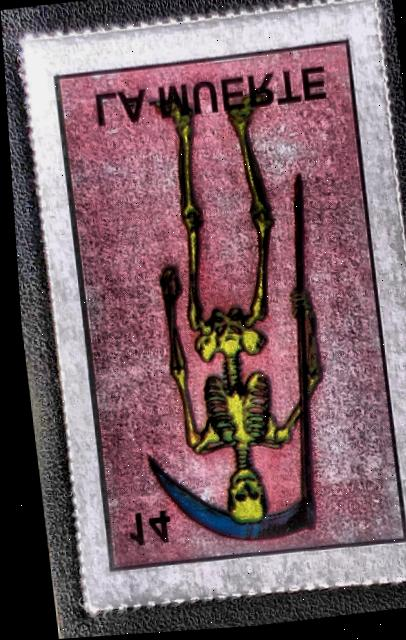La Muerte: (28, 11, 406, 602)
